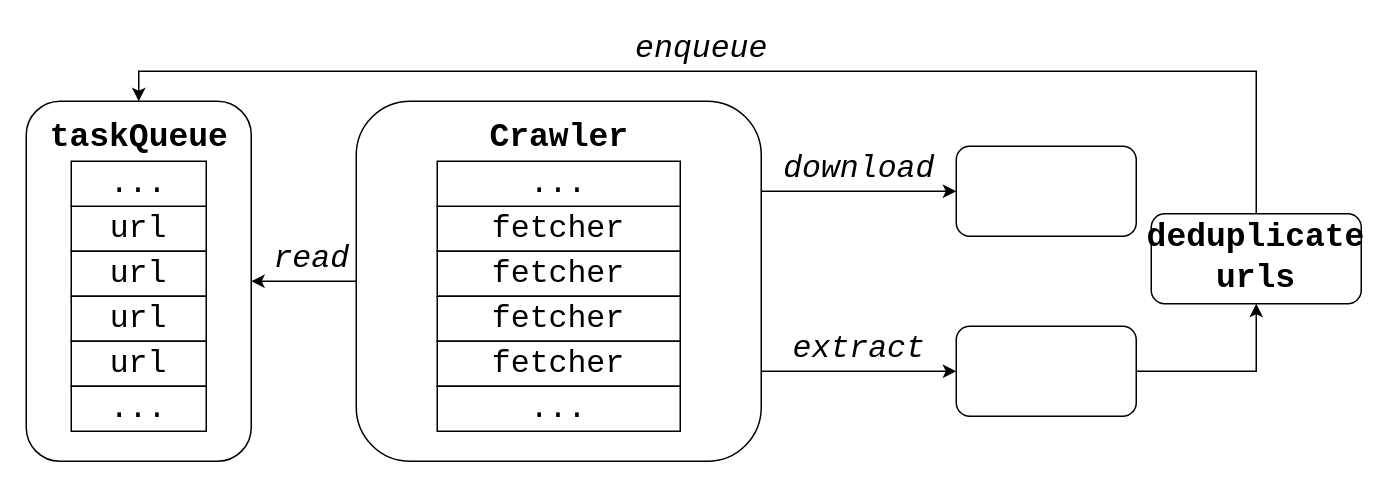
Image size: 1391x488. Some labels were removed from this diagram. The box of each missing label's shape, as (x1, y1, x2, y2) in pixels:
extracted urls: (955, 325, 1136, 416)
target Webpages: (955, 145, 1136, 236)
